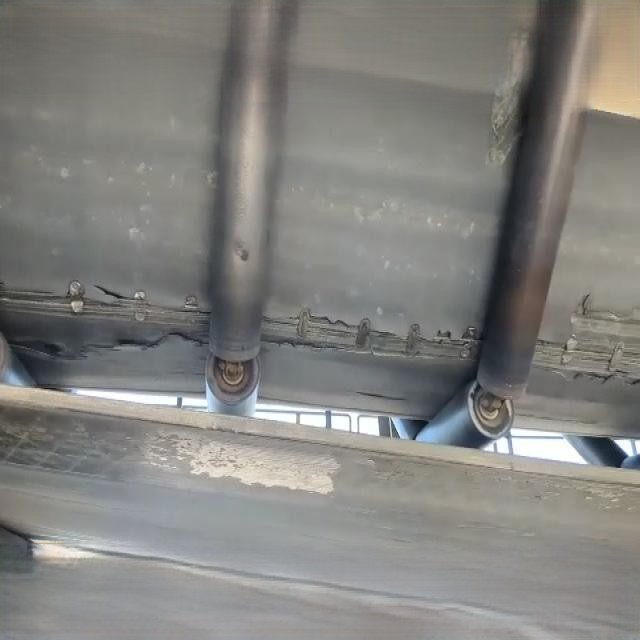Tear: (0, 278, 215, 360), (258, 302, 482, 373), (529, 288, 640, 398), (88, 266, 134, 304)
Wear: (479, 84, 531, 170)
